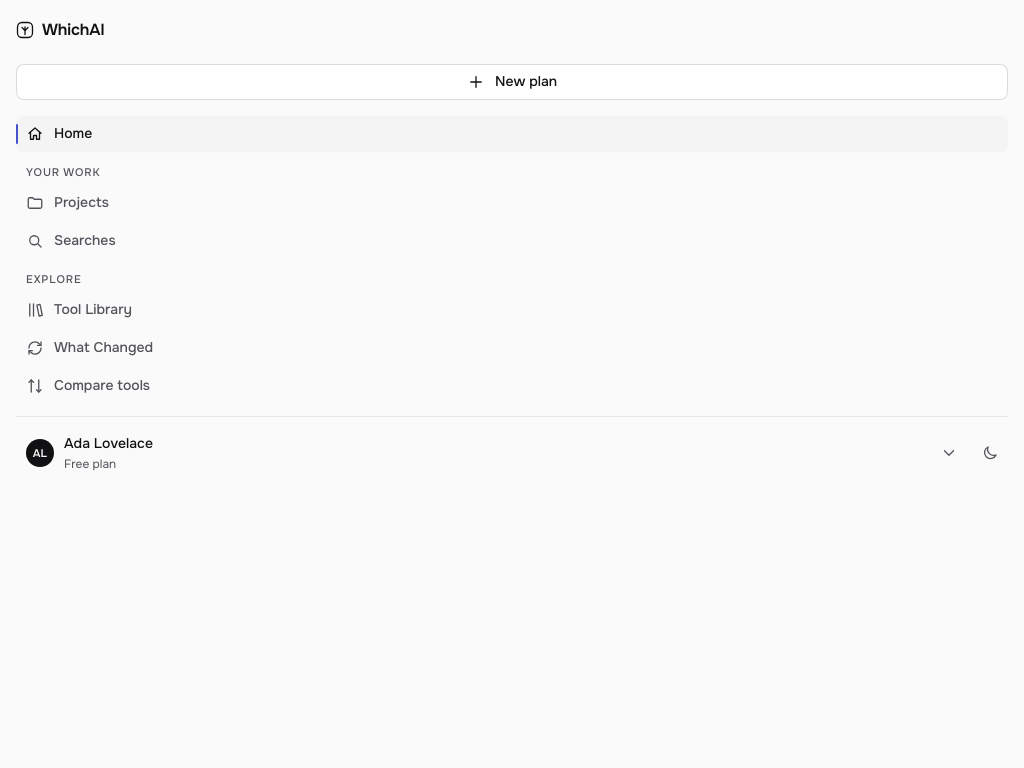
Test case: sidebar footer, signed in › opens with the mouse and closes on a click outside
Click the button "AL Ada Lovelace Free plan" at coordinates (108, 443), box [16,429,968,477]
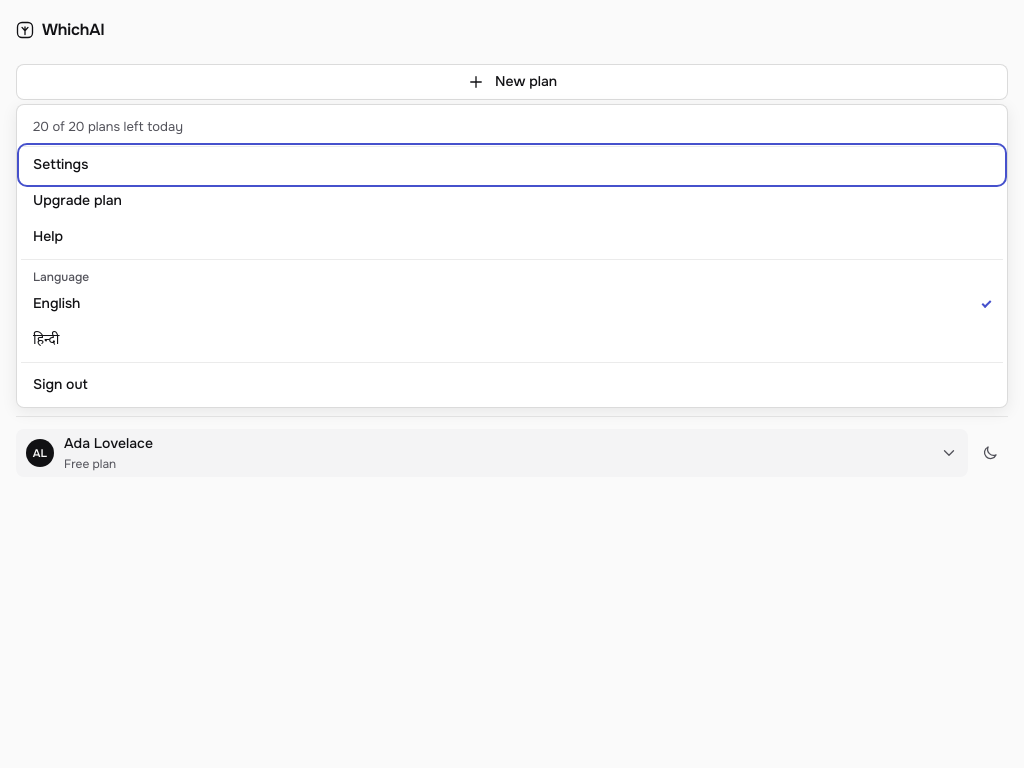
Now the menu items read "Settings", "Upgrade plan", "Help", "Sign out", in this order, box [33,155,88,173]; [33,191,122,209]; [33,227,63,245]; [21,367,1003,403]
Click the element that starts with "WhichAI" at coordinates (512, 722), box [0,0,1023,767]
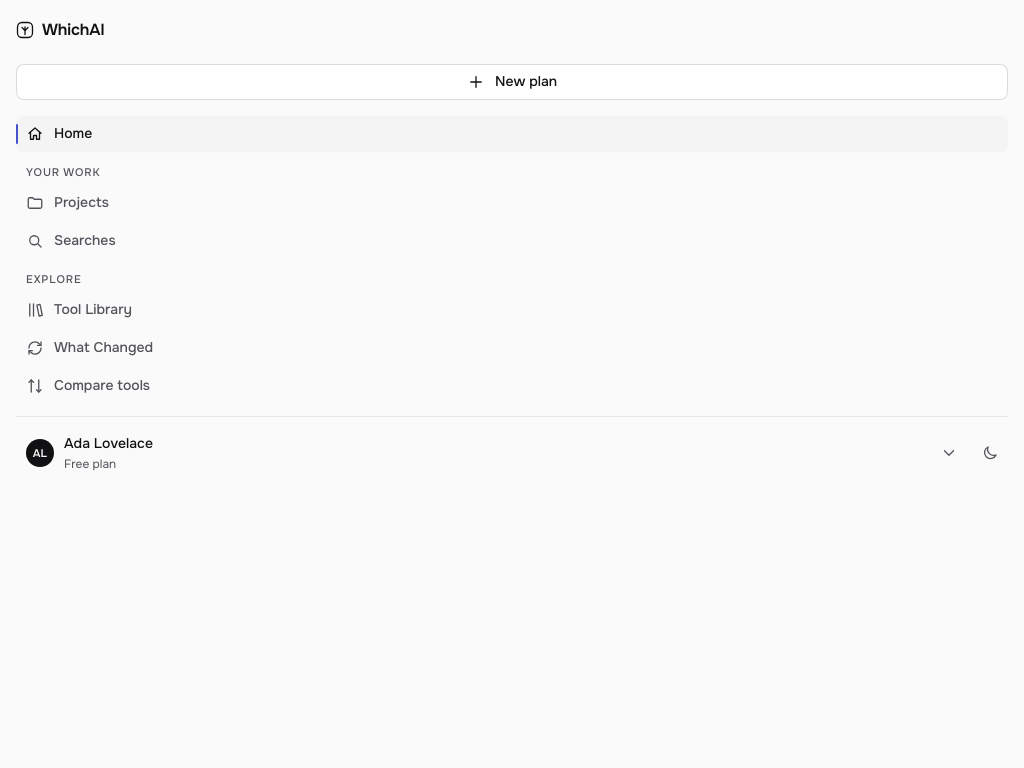
Now the menu is gone
